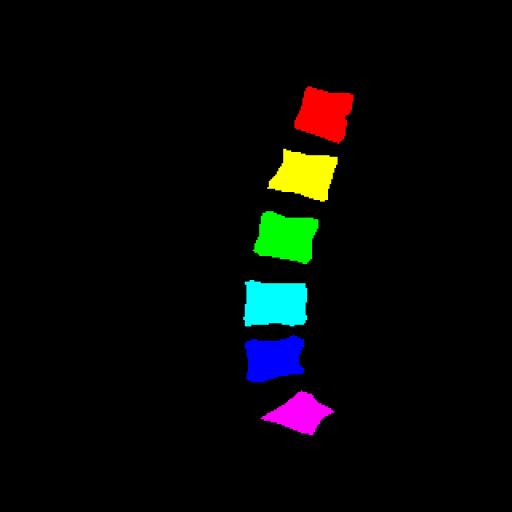L1: (294, 87, 354, 142)
L2: (268, 149, 338, 202)
L3: (253, 211, 318, 264)
L4: (243, 280, 307, 326)
L5: (245, 335, 304, 382)
S1: (261, 392, 334, 434)
